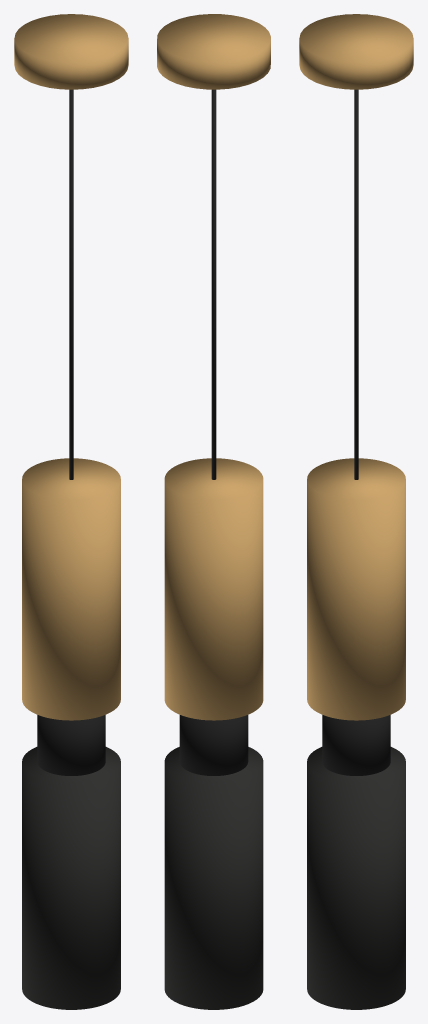
3 renders of one model, left to right at view 1: azimuth 90°, elevation 25°; view 2: azimuth 150°, elevation 25°; view 3: azimuth 270°, elevation 25°, orthographic.
Parts seen in each view (by area): view 1: void-series-sky-w21; view 2: void-series-sky-w21; view 3: void-series-sky-w21.
Boxes of the visible parts, bbox=[...] form: void-series-sky-w21: bbox=[14, 14, 128, 1009]; void-series-sky-w21: bbox=[157, 14, 270, 1009]; void-series-sky-w21: bbox=[299, 14, 413, 1009].
Bounding box in the file's own units: 0.075 × 0.692 × 0.075.
